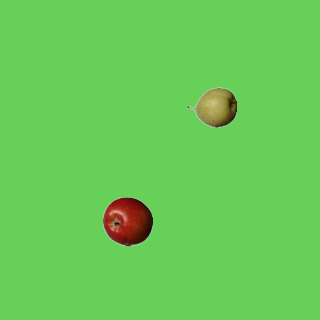Apple Braeburn: (102, 196, 152, 246)
Pear: (186, 82, 236, 132)
